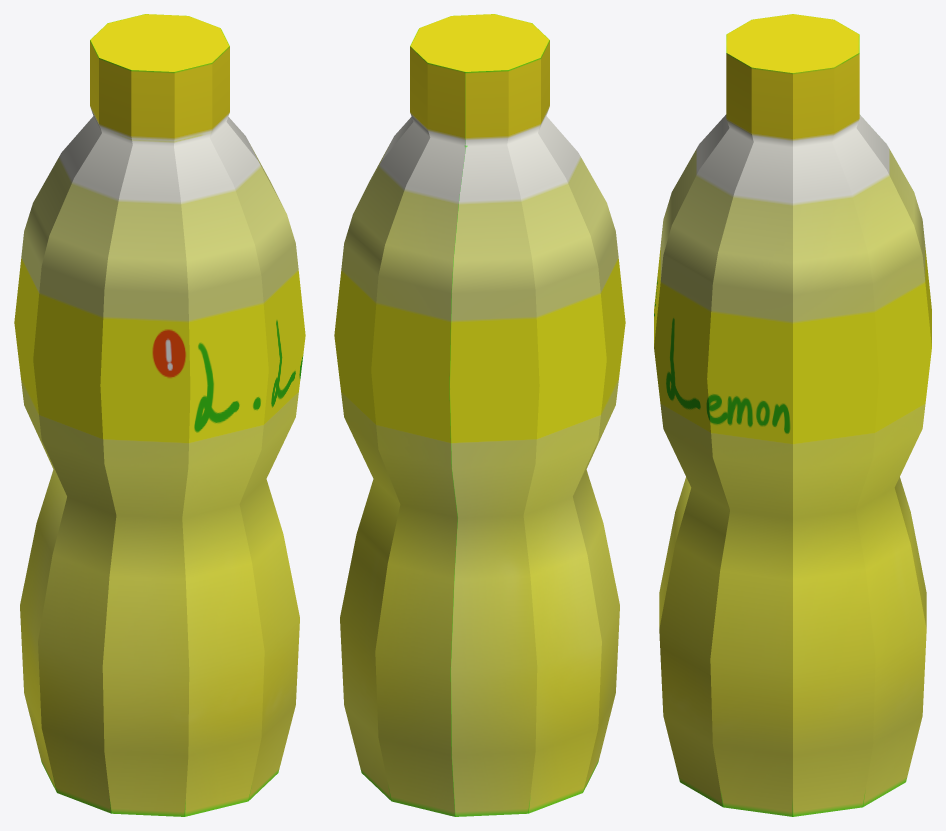
The model's file is drink_B.fbx.
3 renders of one model, left to right at view 1: azimuth 30°, elevation 25°; view 2: azimuth 150°, elevation 25°; view 3: azimuth 270°, elevation 25°, orthographic.
Parts seen in each view (by area): view 1: drink_B_1; view 2: drink_B_1; view 3: drink_B_1.
Part boxes in pixels (x1,y1,x2,y2): drink_B_1: (14, 14, 305, 816); drink_B_1: (334, 14, 625, 816); drink_B_1: (654, 14, 931, 816).
Size of the model in its own units: 20.36 by 55.6 by 19.37.
Materials: 1 (1 with a texture image).
